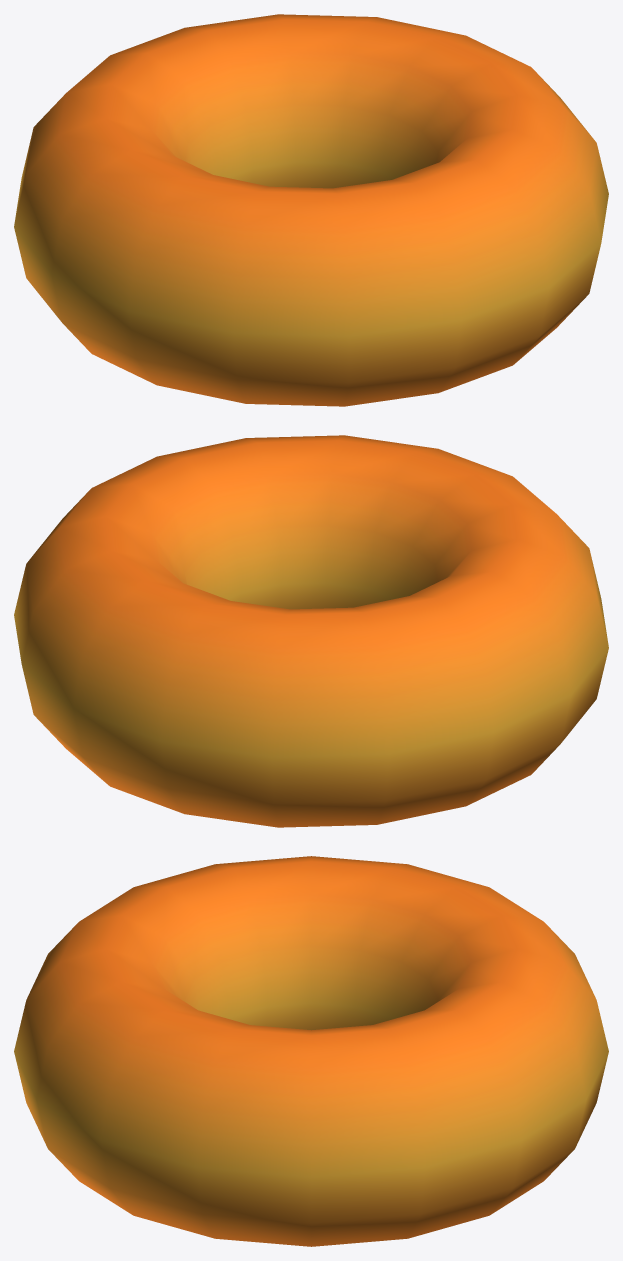
File: Donut_V1_03.fbx
3 renders of one model, top to bottom at view 1: azimuth 30°, elevation 25°; view 2: azimuth 150°, elevation 25°; view 3: azimuth 270°, elevation 25°, orthographic.
Visible parts, largest first — view 1: Donut_V1_03; view 2: Donut_V1_03; view 3: Donut_V1_03.
Part boxes in pixels (x1,y1,x2,y2): Donut_V1_03: (14, 14, 608, 406); Donut_V1_03: (14, 435, 608, 827); Donut_V1_03: (14, 856, 608, 1246).
Bounding box in the file's own units: 40.77 × 15.54 × 40.77.
